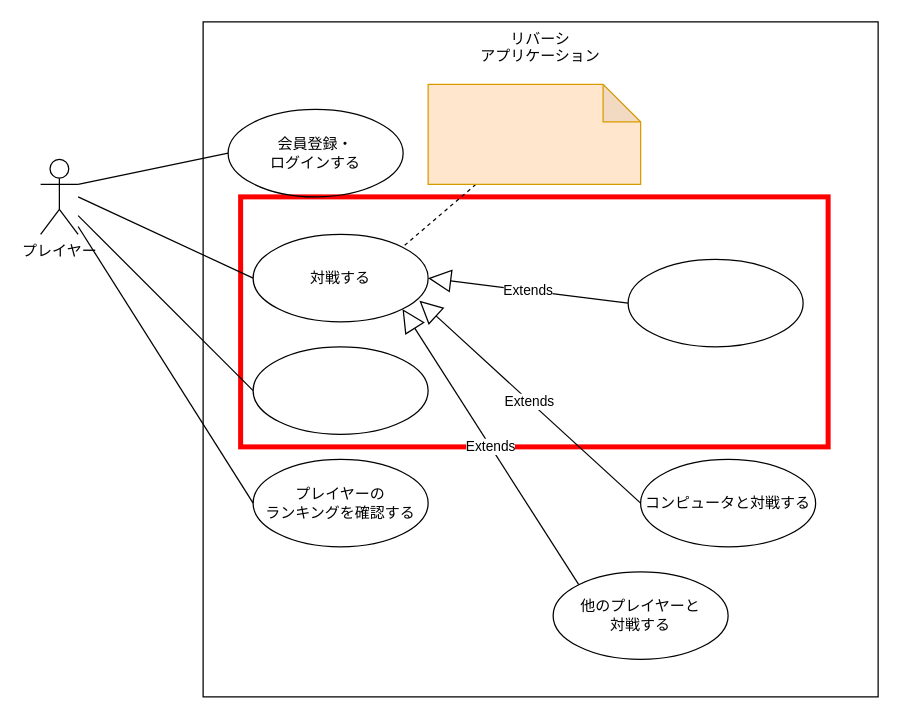
The diagram is 900 pixels wide and 719 high, and some of its shapes have lost their labels. The box of each missing label's shape, as (x1, y1, x2, y2) in pixels:
1人で黒白 交互に打つ: (627, 258, 803, 347)
・対戦を開始する ・盤面を見る ・石を打つ ・勝敗を確認する: (427, 83, 641, 184)
自分の 過去の対戦結果を確認する: (252, 346, 428, 434)
